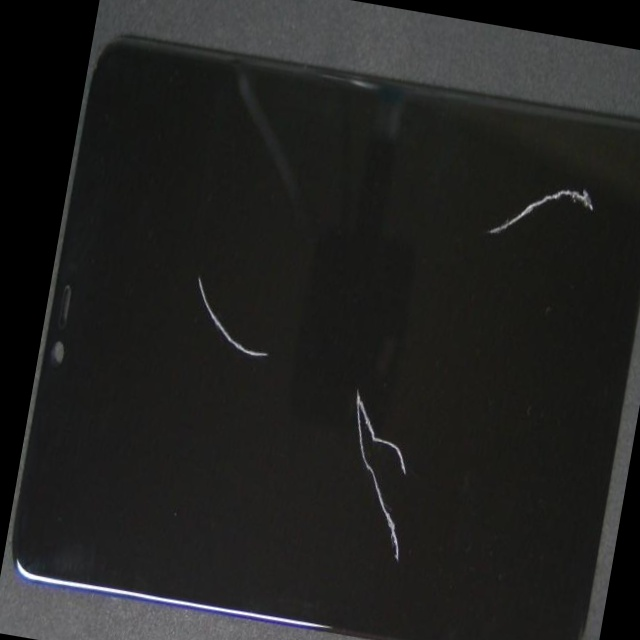scratch: (229, 396, 600, 640), (189, 212, 374, 506), (360, 114, 640, 279)
